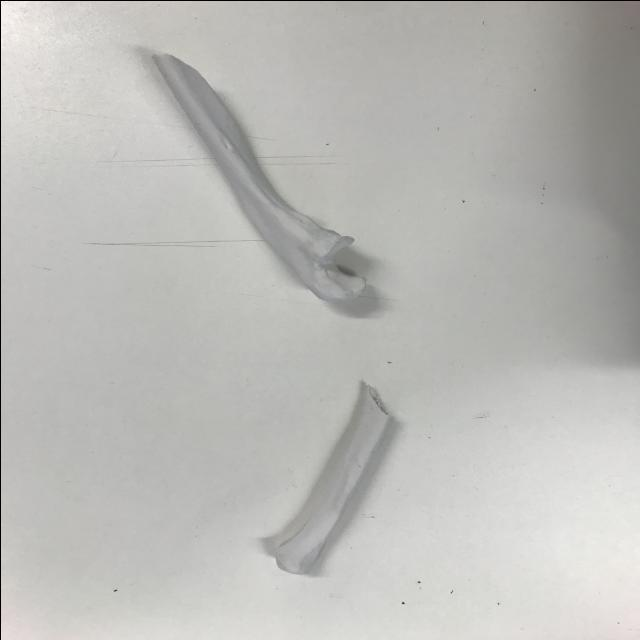bone: (148, 45, 377, 311), (254, 378, 400, 580)
